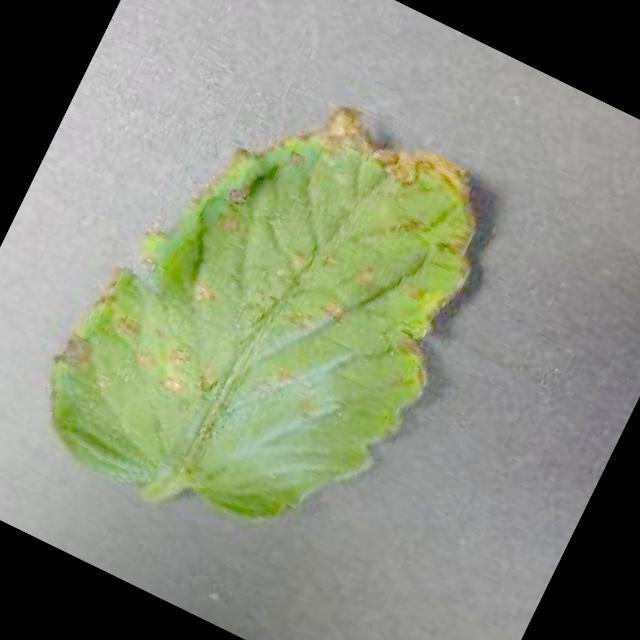Tomato bacterial spot leaf: (12, 31, 530, 594)
